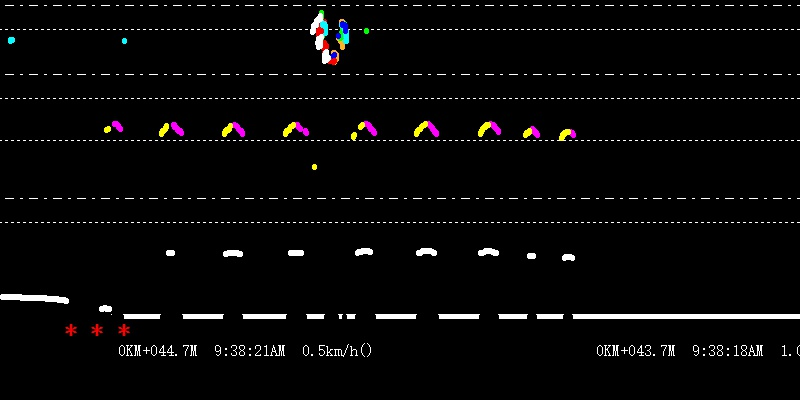J: (309, 4, 350, 66)
star: (60, 320, 79, 340), (87, 320, 105, 338), (114, 323, 132, 338)
y_p: (149, 115, 508, 268)
